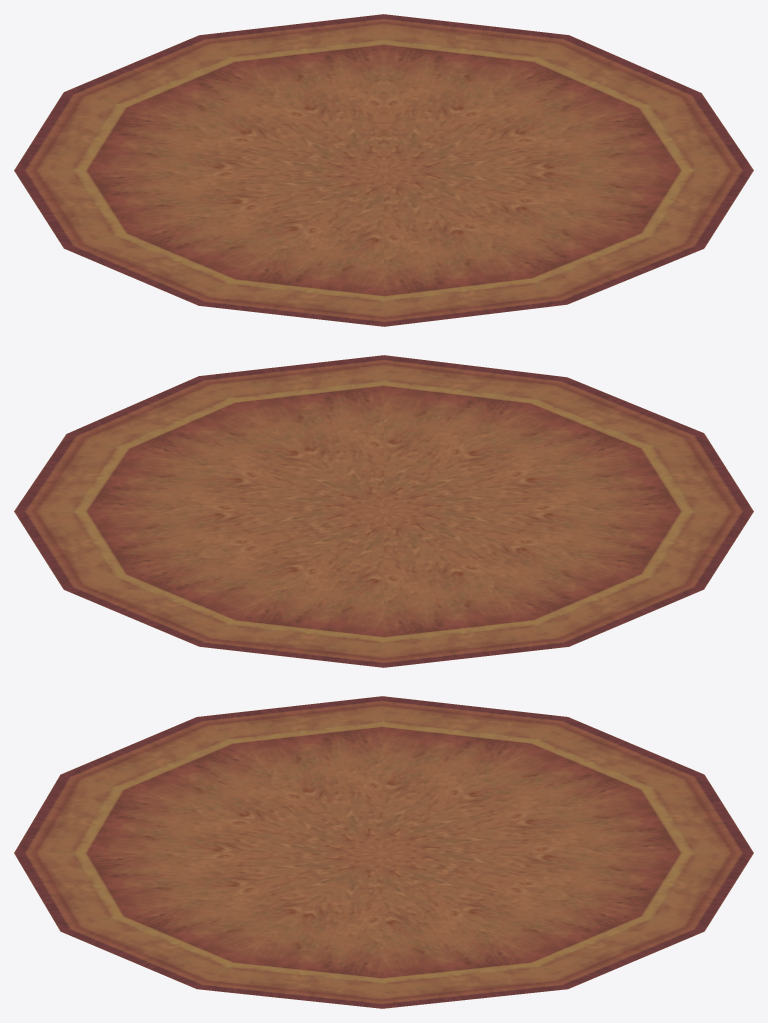
Rendered from launcherdoor-lod1.glb.
The picture shows the model from 3 angles, top to bottom: view 1: azimuth 30°, elevation 25°; view 2: azimuth 150°, elevation 25°; view 3: azimuth 270°, elevation 25°; orthographic projection.
Parts seen in each view (by area): view 1: launcherdoor-lod1; view 2: launcherdoor-lod1; view 3: launcherdoor-lod1.
Boxes of the visible parts, left/top/right/bottom form: launcherdoor-lod1: left=14, top=14, right=753, bottom=326; launcherdoor-lod1: left=14, top=355, right=753, bottom=667; launcherdoor-lod1: left=14, top=696, right=753, bottom=1008.
Size of the model in its own units: 7.25 by 0 by 7.25.
1 material, 1 textured.
